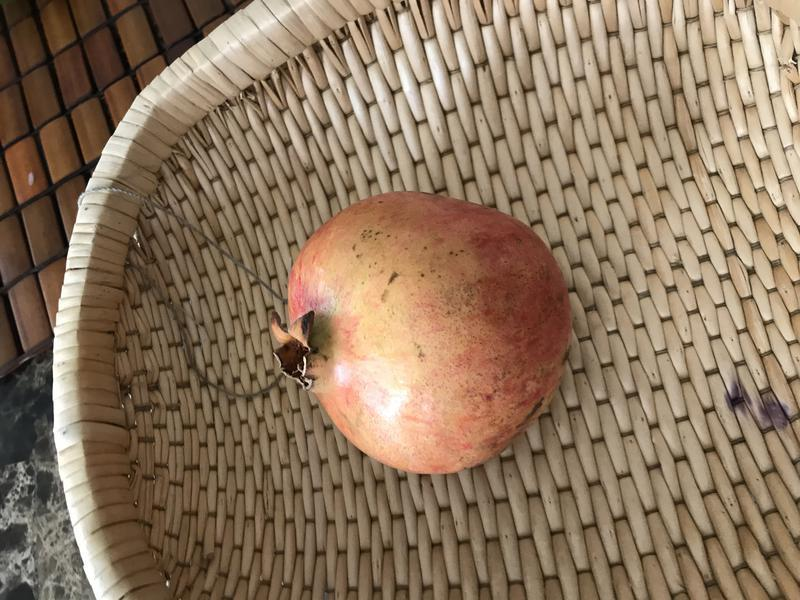pomegranate: (259, 181, 582, 481)
